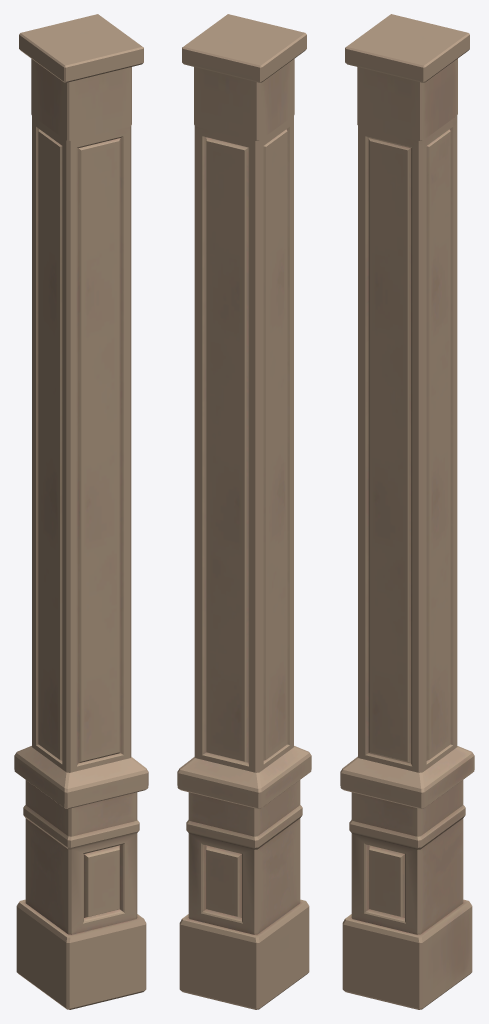
Rendered from ColumnFull (19).fbx.
3 renders of one model, left to right at view 1: azimuth 30°, elevation 25°; view 2: azimuth 150°, elevation 25°; view 3: azimuth 330°, elevation 25°, orthographic.
Parts seen in each view (by area): view 1: column2Middle1, ColumnFull (19), column2Top; view 2: column2Middle1, ColumnFull (19), column2Top; view 3: column2Middle1, ColumnFull (19), column2Top.
Boxes of the visible parts, box(x1,y1,x2,y2) form: column2Middle1: box(32, 116, 131, 772); ColumnFull (19): box(14, 746, 148, 1009); column2Top: box(19, 14, 143, 140); column2Middle1: box(194, 116, 293, 772); ColumnFull (19): box(177, 746, 311, 1009); column2Top: box(182, 14, 306, 140); column2Middle1: box(358, 116, 457, 772); ColumnFull (19): box(340, 746, 474, 1009); column2Top: box(345, 14, 469, 140).
Bounding box in the file's own units: 197 × 2113 × 213.
